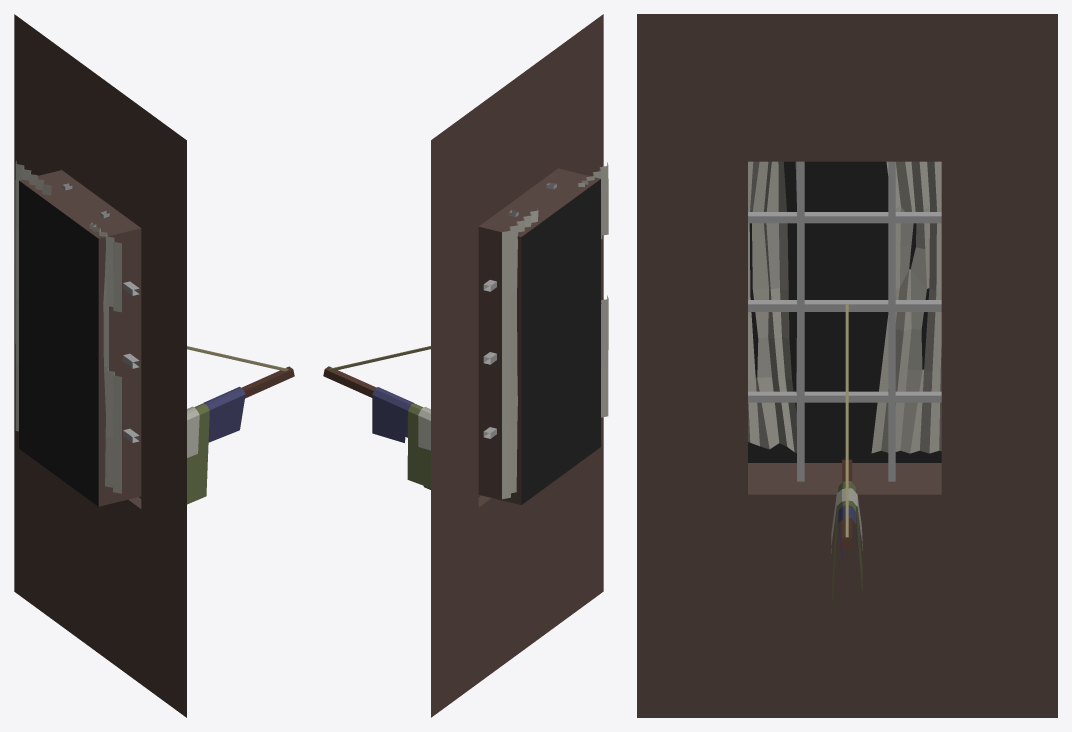
The model's file is houseWall_6.fbx.
The picture shows the model from 3 angles, left to right: view 1: azimuth 30°, elevation 25°; view 2: azimuth 150°, elevation 25°; view 3: azimuth 270°, elevation 25°; orthographic projection. The views are drawn at different scales.
Parts seen in each view (by area): view 1: houseWall_6; view 2: houseWall_6; view 3: houseWall_6.
Part boxes in pixels (x1,y1,x2,y2): houseWall_6: [14, 14, 294, 717]; houseWall_6: [323, 14, 608, 717]; houseWall_6: [637, 14, 1057, 717].
Bounding box in the file's own units: 204 × 480 × 260.
